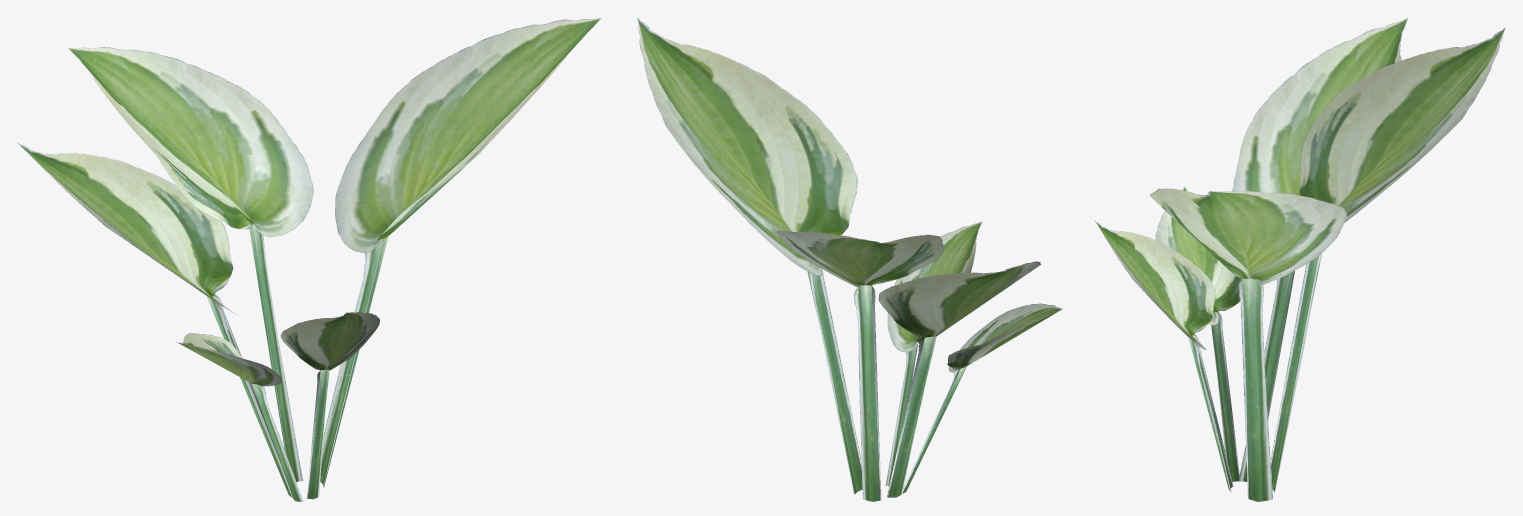
The model's file is plant_small_wg_02F.fbx.
3 views of the same model, side by side, from view 1: azimuth 30°, elevation 25°; view 2: azimuth 150°, elevation 25°; view 3: azimuth 270°, elevation 25° (orthographic). The views are drawn at different scales.
Visible parts, largest first — view 1: plant_small_wg_02F; view 2: plant_small_wg_02F; view 3: plant_small_wg_02F.
Part boxes in pixels (bbox=[...]): plant_small_wg_02F: bbox=[18, 18, 601, 501]; plant_small_wg_02F: bbox=[637, 18, 1062, 501]; plant_small_wg_02F: bbox=[1095, 18, 1505, 501].
Size of the model in its own units: 58.6 by 47.73 by 40.44.
